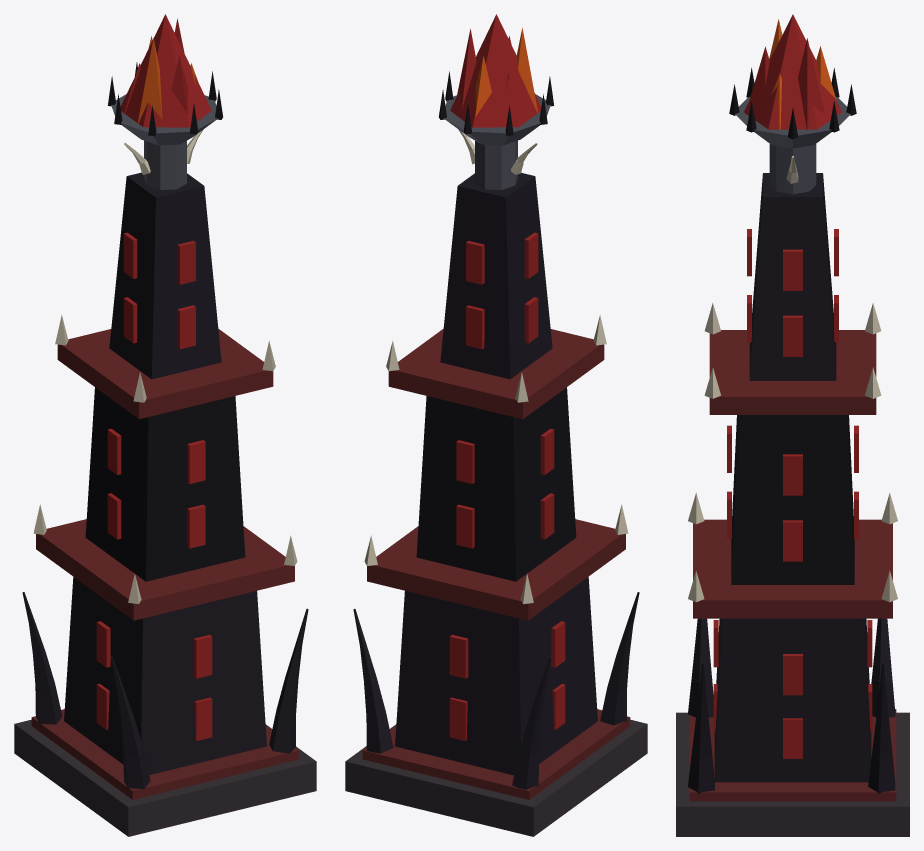
The model's file is Decor_HellGate_HellfireSpire.fbx.
3 renders of one model, left to right at view 1: azimuth 30°, elevation 25°; view 2: azimuth 150°, elevation 25°; view 3: azimuth 270°, elevation 25°, orthographic. The views are drawn at different scales.
Parts seen in each view (by area): view 1: HellfireSpire_Body; view 2: HellfireSpire_Body; view 3: HellfireSpire_Body.
Boxes of the visible parts, bbox=[...] form: HellfireSpire_Body: bbox=[14, 14, 316, 836]; HellfireSpire_Body: bbox=[345, 14, 647, 836]; HellfireSpire_Body: bbox=[676, 14, 909, 836].
Size of the model in its own units: 14 by 51.3 by 14.
